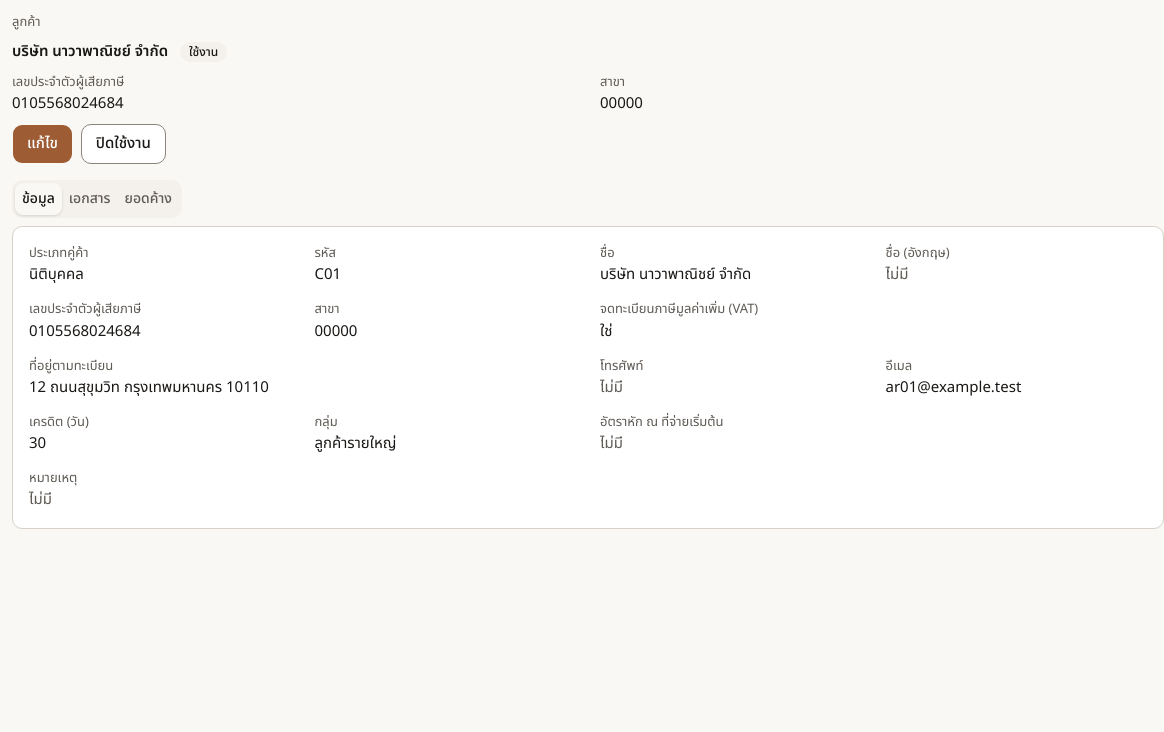
Test: RecordView › the open-items tab shows the rows and the TOTAL from the server (the browser adds nothing)
The width and height of the screenshot is (1164, 732).
Expected: the heading "บริษัท นาวาพาณิชย์ จำกัด" is shown, 12,40 -> 168,64
Click the tab "ยอดค้าง". click: (148, 199)
box: 118,183 -> 179,215
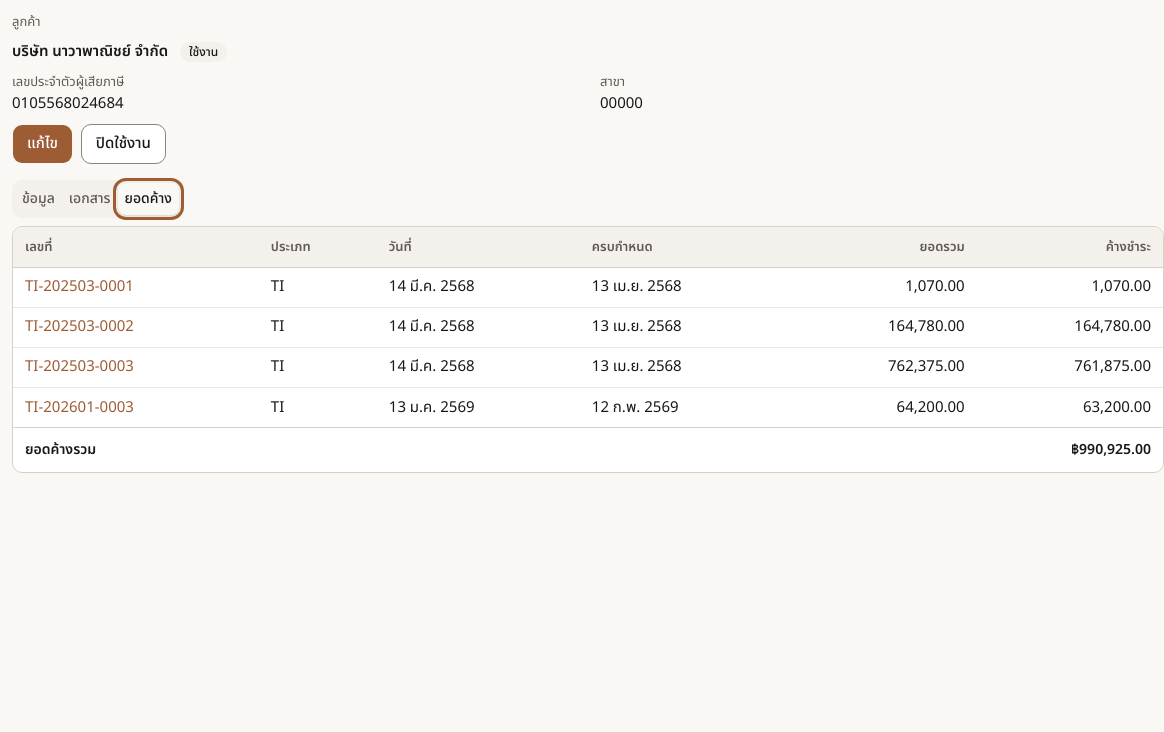
Expected: the number of rows is 5, 13,227 -> 1163,267; 13,267 -> 1163,307; 13,307 -> 1163,347; 13,347 -> 1163,387; 13,387 -> 1163,427
